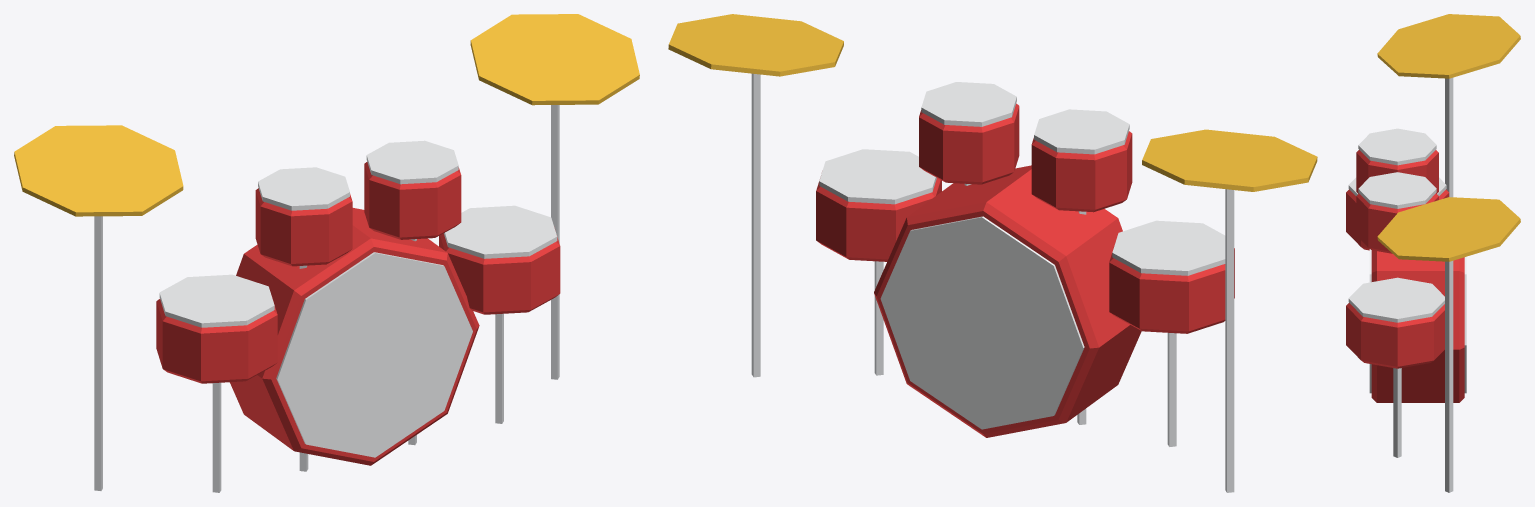
The model's file is DrumSet.fbx.
3 views of the same model, side by side, from view 1: azimuth 30°, elevation 25°; view 2: azimuth 150°, elevation 25°; view 3: azimuth 270°, elevation 25° (orthographic). The views are drawn at different scales.
Parts seen in each view (by area): view 1: DrumSet; view 2: DrumSet; view 3: DrumSet.
Boxes of the visible parts, x1,y1,x2,y2 form: DrumSet: (14,14,639,492); DrumSet: (668,14,1317,492); DrumSet: (1346,14,1520,492).
Size of the model in its own units: 5.6 by 2.92 by 1.7.
1 material, 1 textured.
